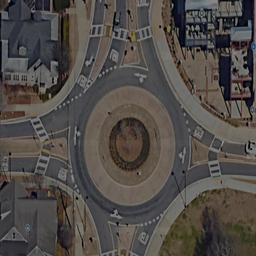Crosswalk: (28, 116, 51, 143), (35, 154, 50, 177), (111, 24, 127, 43), (87, 23, 103, 40), (208, 135, 226, 150), (136, 23, 151, 40), (207, 160, 222, 175), (97, 246, 117, 256), (128, 249, 145, 256)
Stright Arrow: (84, 54, 94, 70)
Stright, Left Arrow: (131, 68, 150, 85), (72, 122, 83, 146), (107, 208, 124, 222), (175, 146, 187, 165)
White Dashed Line: (54, 91, 83, 108), (138, 210, 163, 229), (179, 104, 191, 134), (97, 63, 119, 77)
